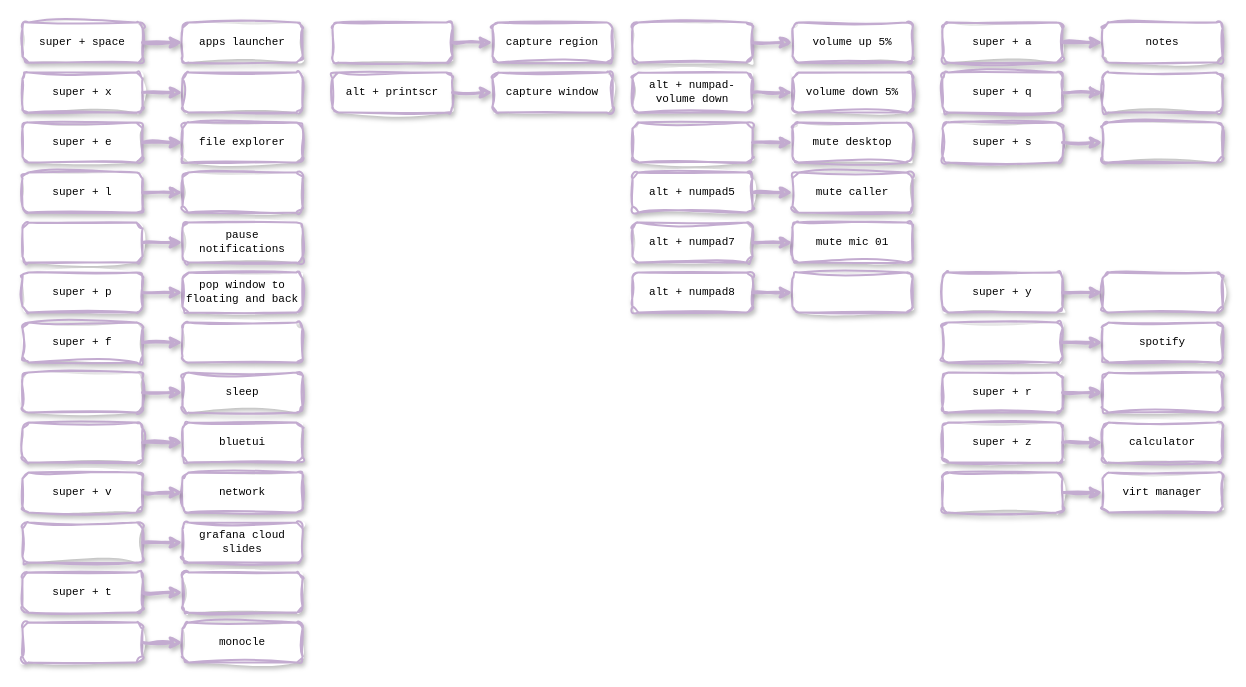
Some shapes in this 1246 by 687 pixel diagram are drawn without their labels. The centre of each missing label's shape, as x and y in pixels:
alt + numpad+ volume up: [693,43]
alt + numpad4: [693,143]
chatgpt: [1163,93]
localsend: [1163,143]
lock screen: [243,193]
mute mic 02: [853,293]
obs recording: [1163,393]
super + !: [83,393]
super + *: [1003,493]
super + b: [83,443]
super + d: [83,543]
super + g: [83,643]
super + h: [1003,343]
super + n: [83,243]
super + printscr: [393,43]
terminal: [243,93]
tiling: [243,593]
window to fullscreen: [243,343]
youtube: [1163,293]
